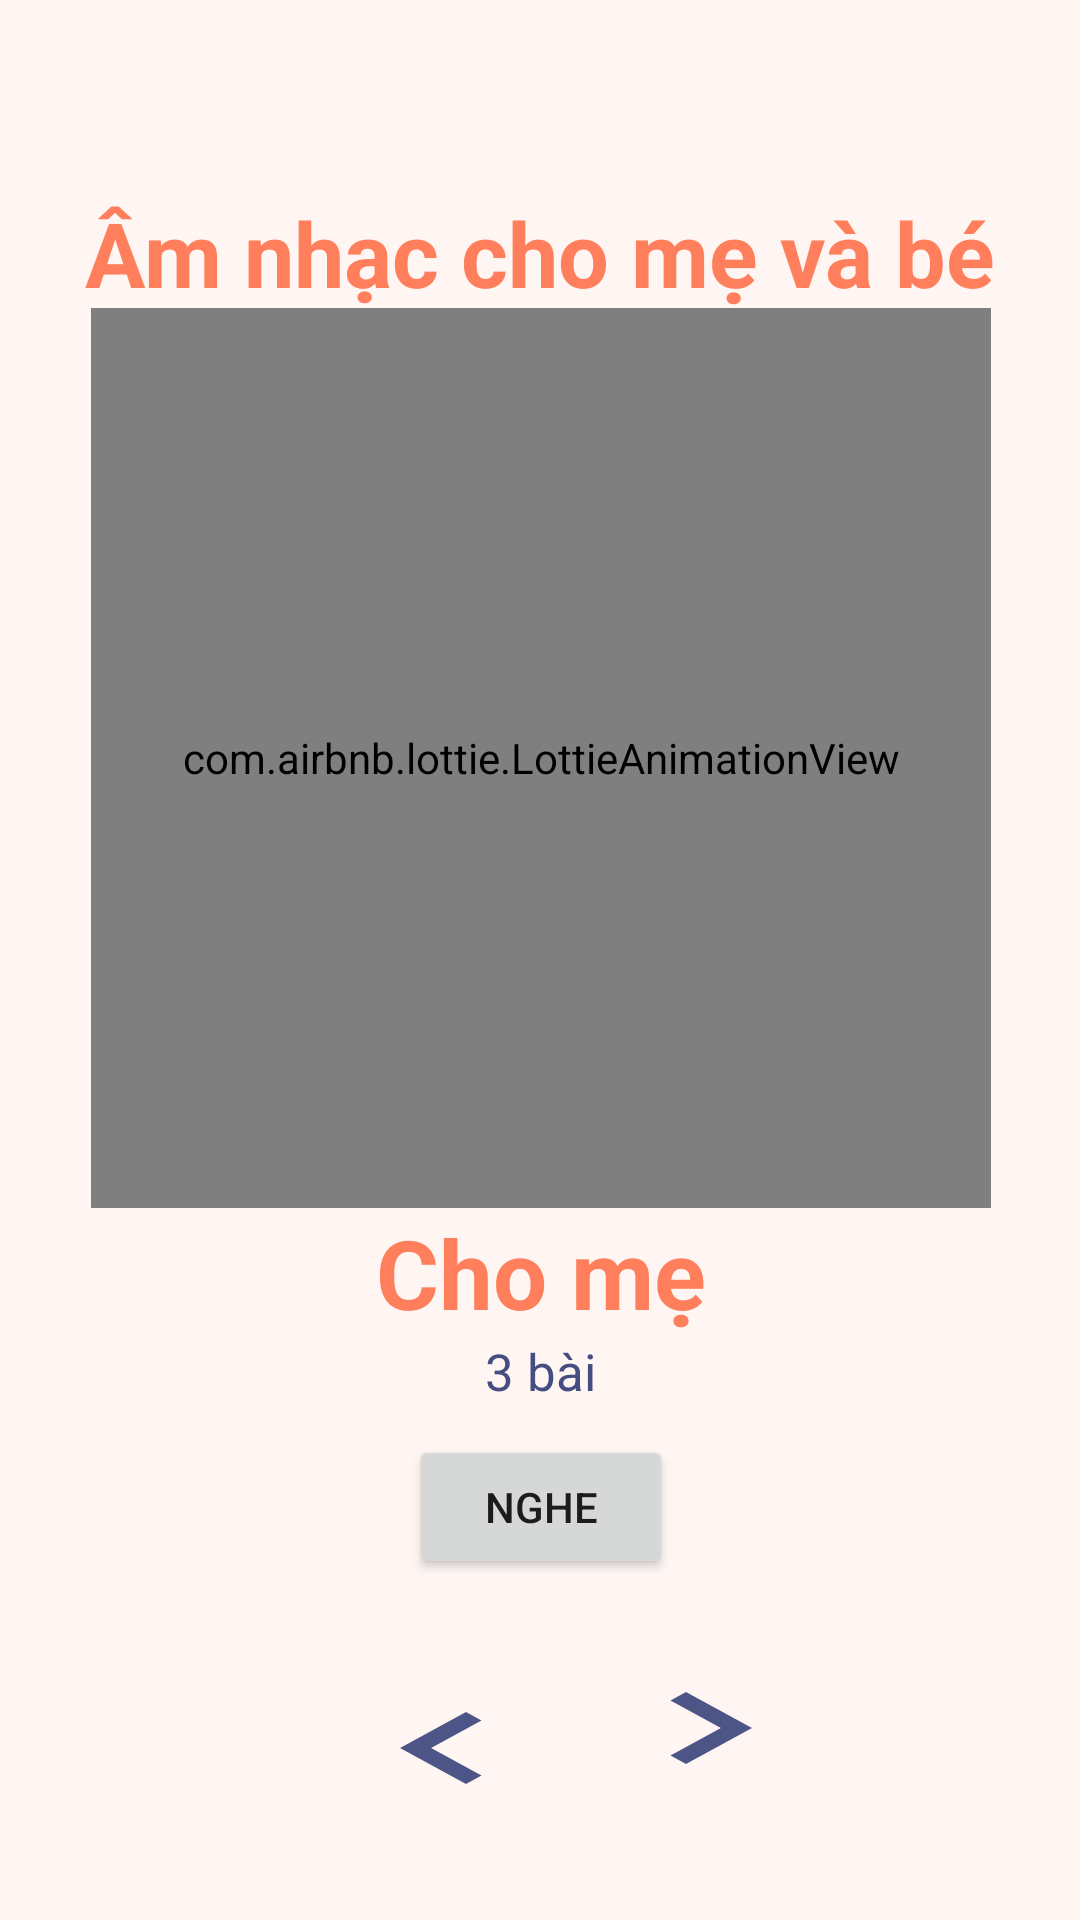

Icon click points for this 1080px x 1920px phone screenshot, format (x=x, y=y):
next: (x=711, y=1728)
previous: (x=440, y=1748)
